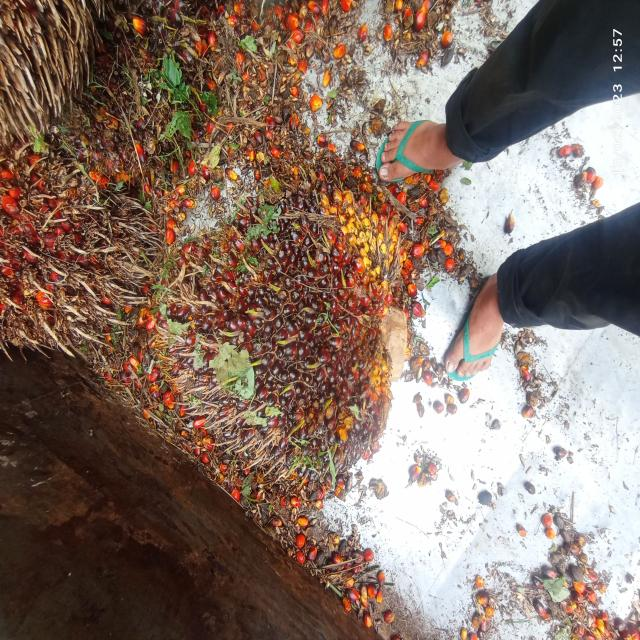fraksi 1: (151, 182, 430, 495)
